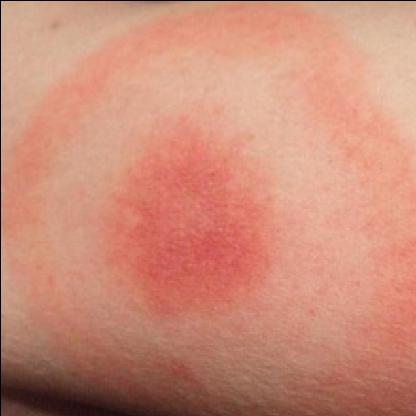Tick: (1, 1, 414, 412)
